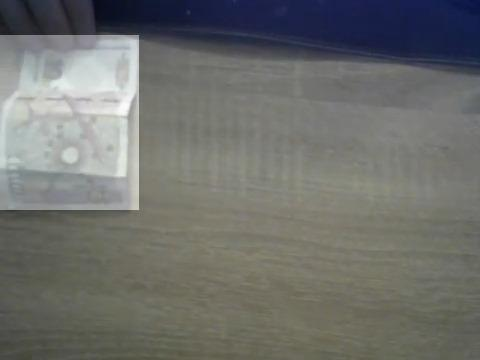10leva: (0, 35, 139, 210)
